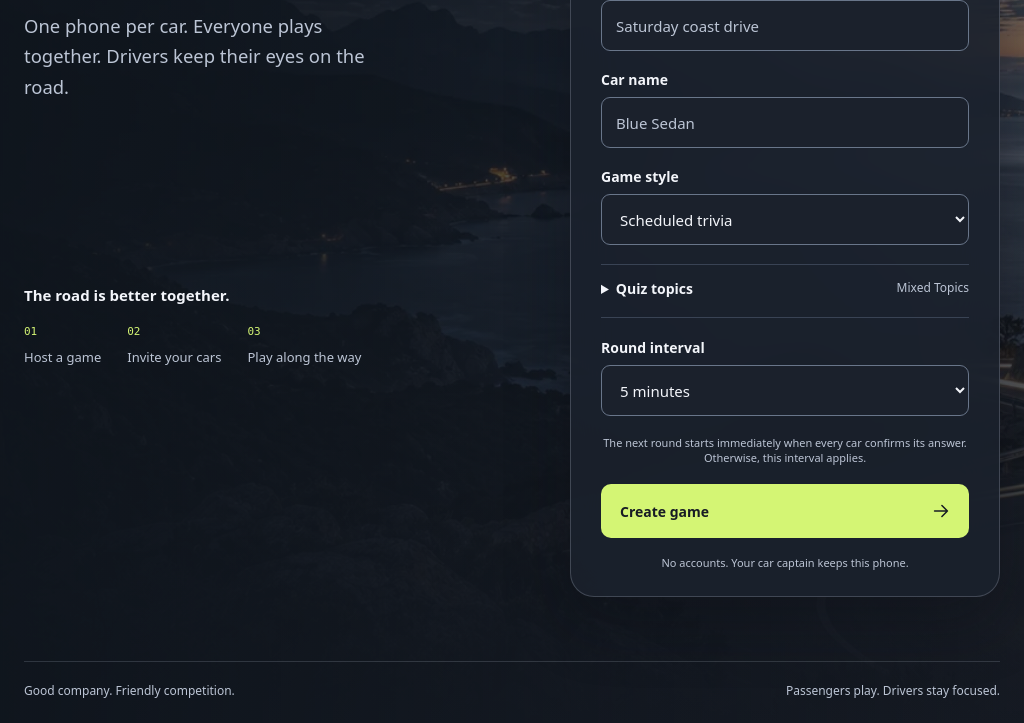
it: keeps mixed topics collapsed until the host wants to customize them
This screenshot has width=1024, height=723.
(page scrolled)
Step 1. Click the text "Quiz topics" → {"x": 654, "y": 289}, box [616,279,693,298]
(page scrolled)
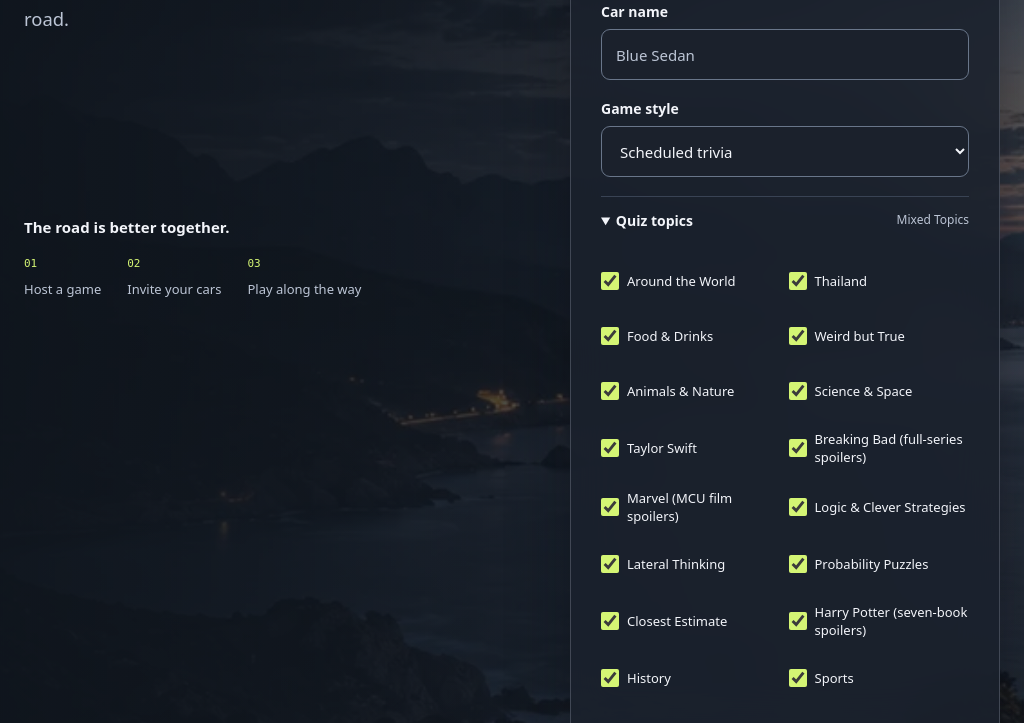
Now the checkbox labelled "Around the World" is shown, box [601,272,619,290]
